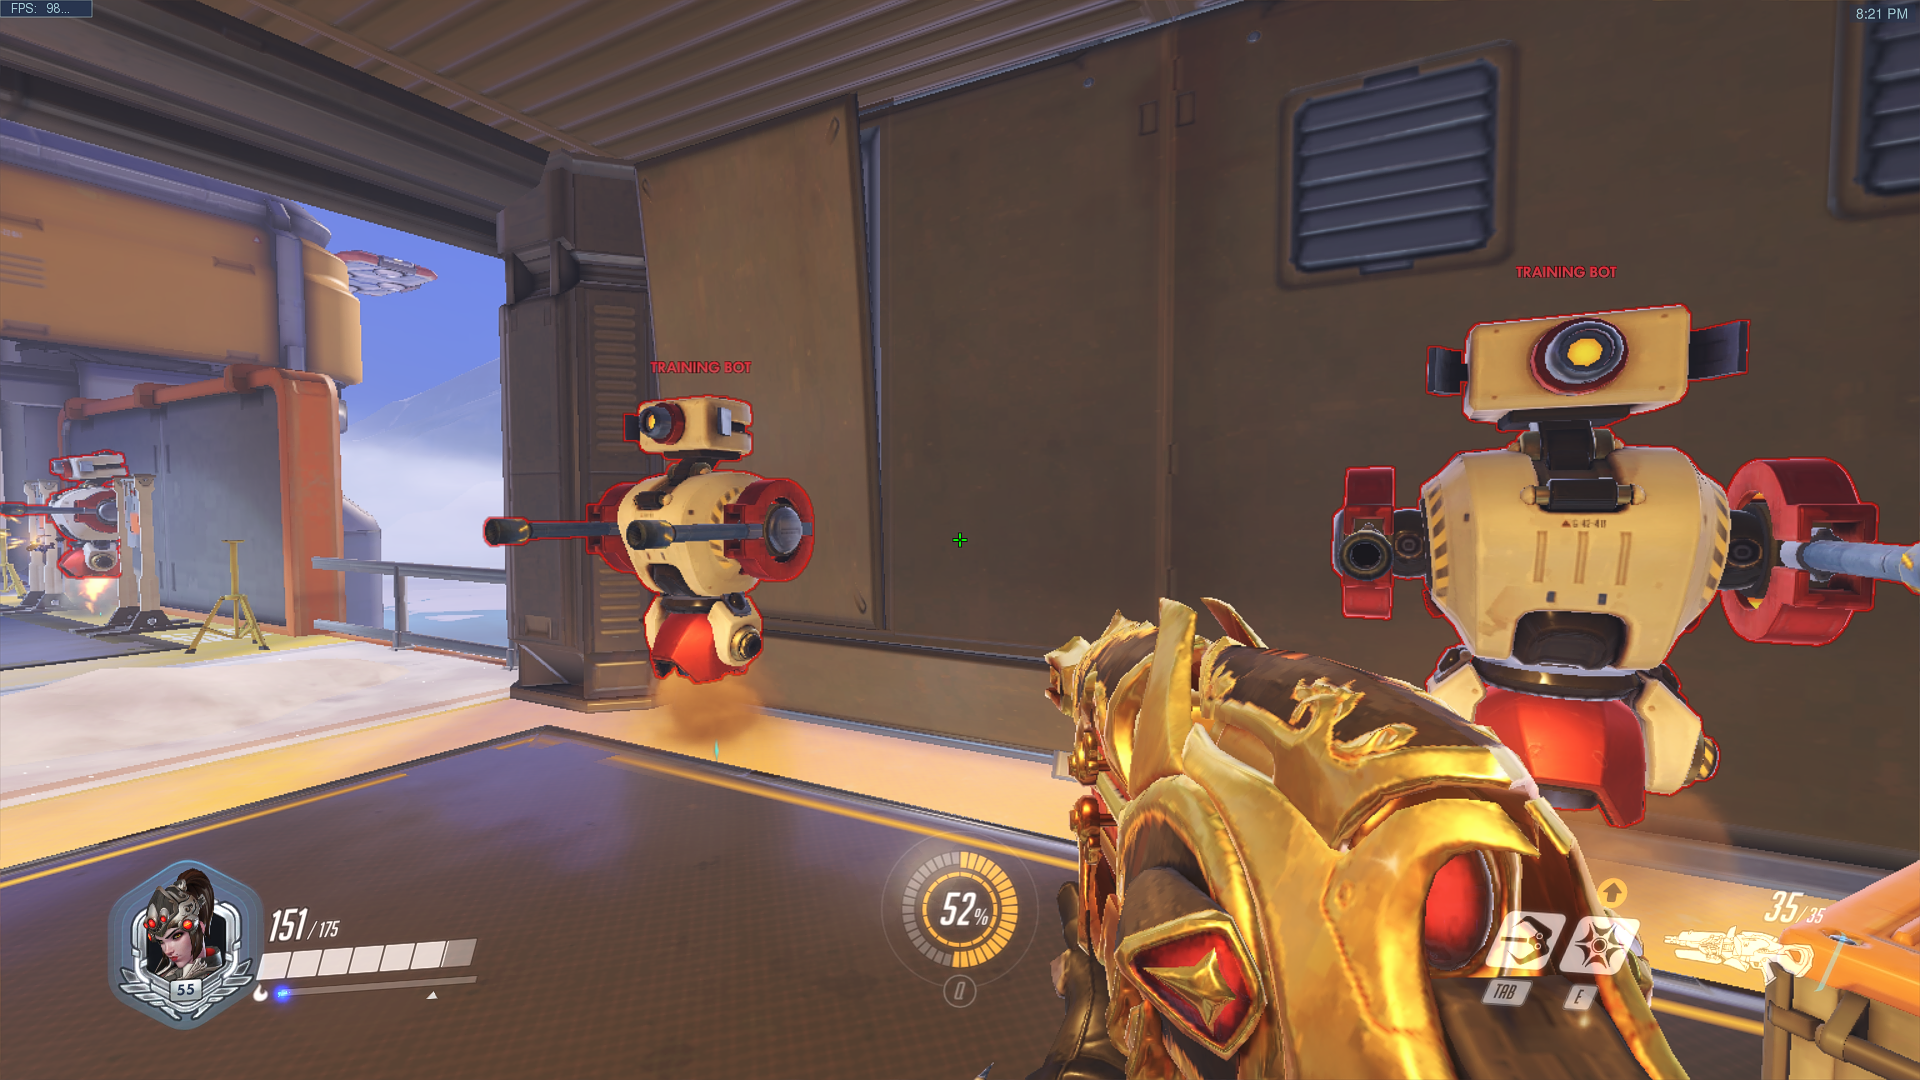head: (1469, 327, 1686, 407), (629, 404, 752, 461)
